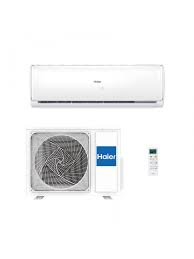ac: (28, 61, 169, 113)
